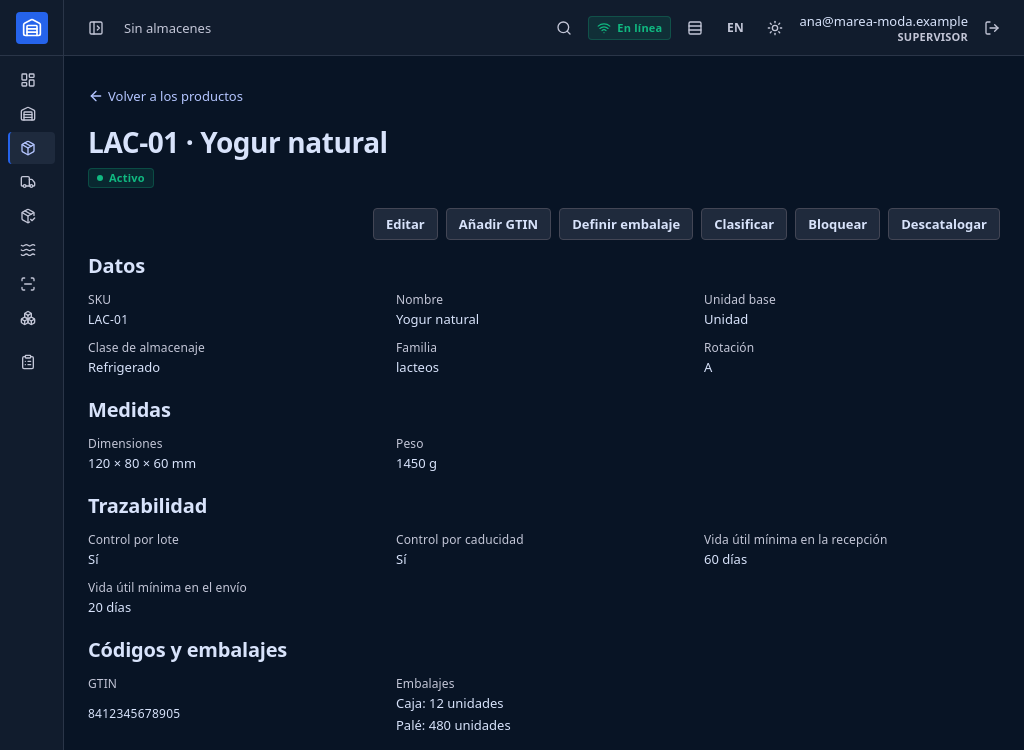
Test: one product › discontinues it only after the warning, and then offers nothing more
The image size is (1024, 750).
What coordinates should you click on to do the following:
click the button "Descatalogar"
I would click on:
 (944, 224)
Its box is [888,208,1000,240].
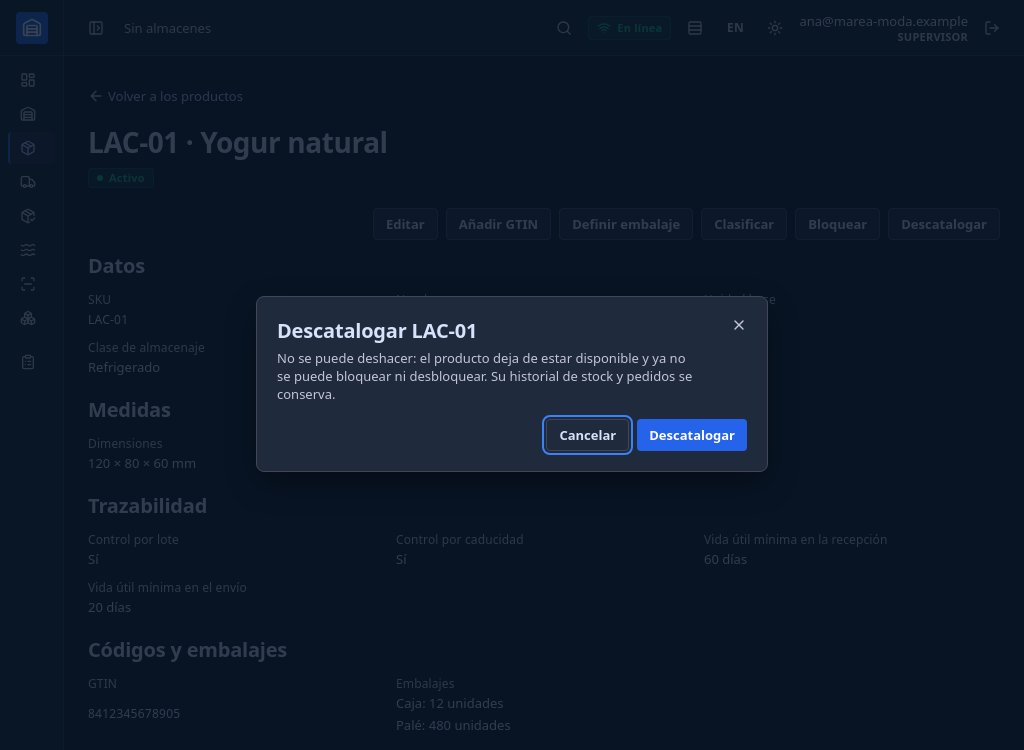
Expected: the text "No se puede deshacer" is shown, [277,349,692,403]
What coordinates should you click on to do the following:
click the button "Descatalogar"
I would click on:
 (692, 435)
Its box is [637,419,747,451].
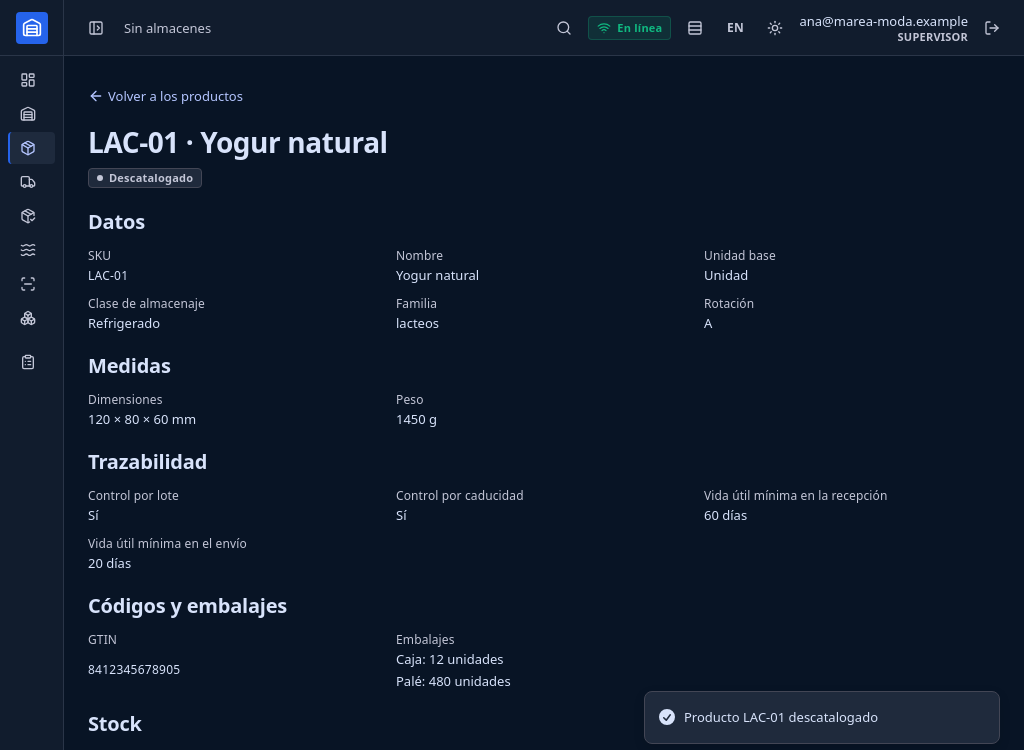
Expected: the button "Descatalogar" is gone
Expected: the text "Desbloquear" is gone
